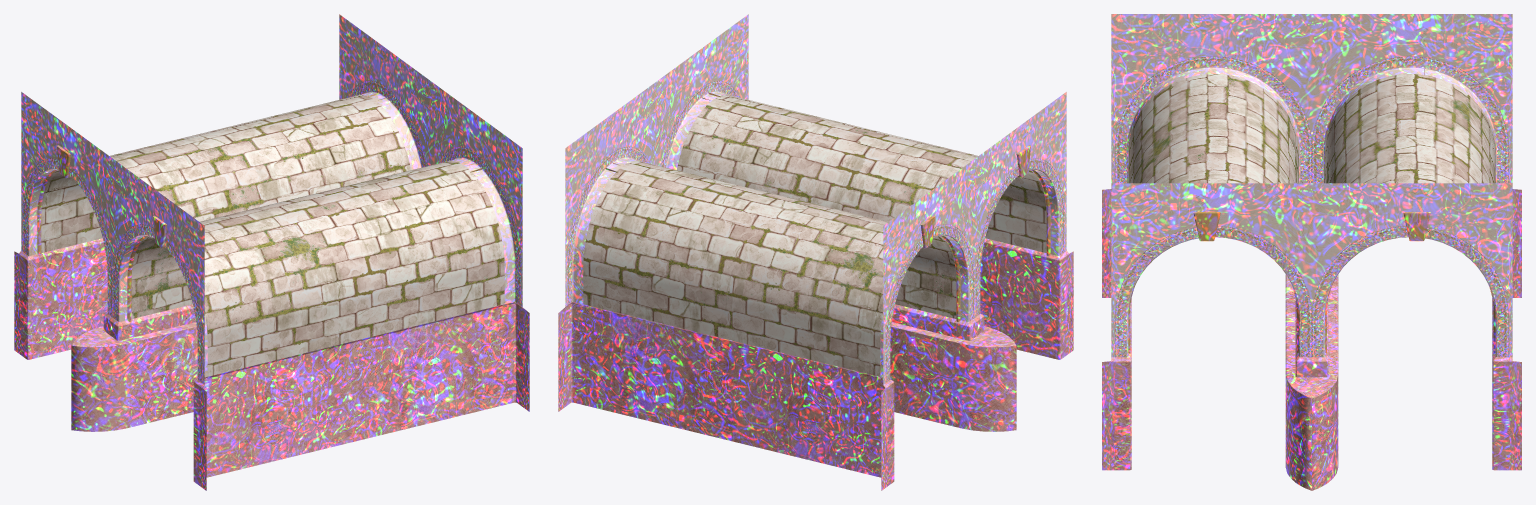
The model's file is arch_double_1x0_5_SM.fbx.
The picture shows the model from 3 angles, left to right: view 1: azimuth 30°, elevation 25°; view 2: azimuth 150°, elevation 25°; view 3: azimuth 270°, elevation 25°; orthographic projection. The views are drawn at different scales.
Visible parts, largest first — view 1: arch_double_1x0_5_SM_LOD0; view 2: arch_double_1x0_5_SM_LOD0; view 3: arch_double_1x0_5_SM_LOD0.
Part boxes in pixels (x1=…): arch_double_1x0_5_SM_LOD0: x1=14, y1=14, x2=529, y2=490; arch_double_1x0_5_SM_LOD0: x1=558, y1=14, x2=1073, y2=490; arch_double_1x0_5_SM_LOD0: x1=1102, y1=14, x2=1521, y2=490.
Bounding box in the file's own units: 1234 × 1024 × 768.
Materials: 5 (5 with a texture image).
